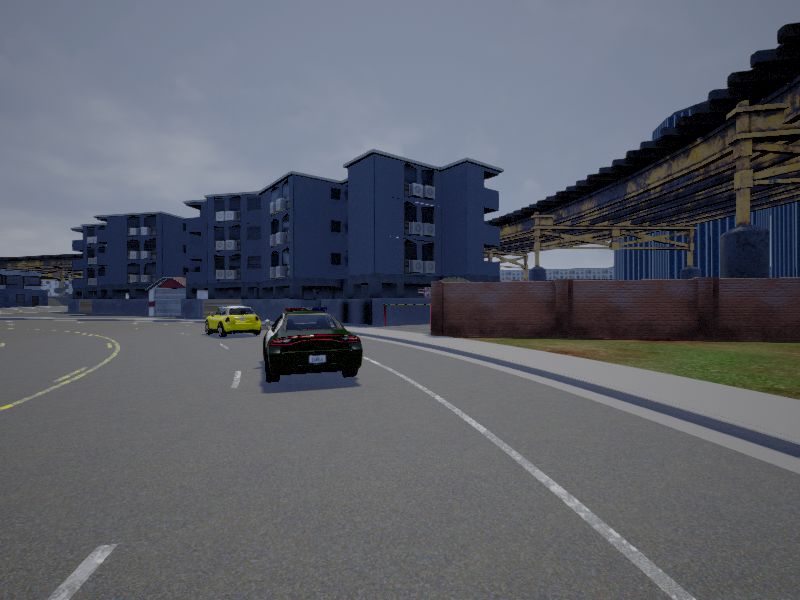Benign: (265, 306, 362, 382), (203, 303, 262, 337)
